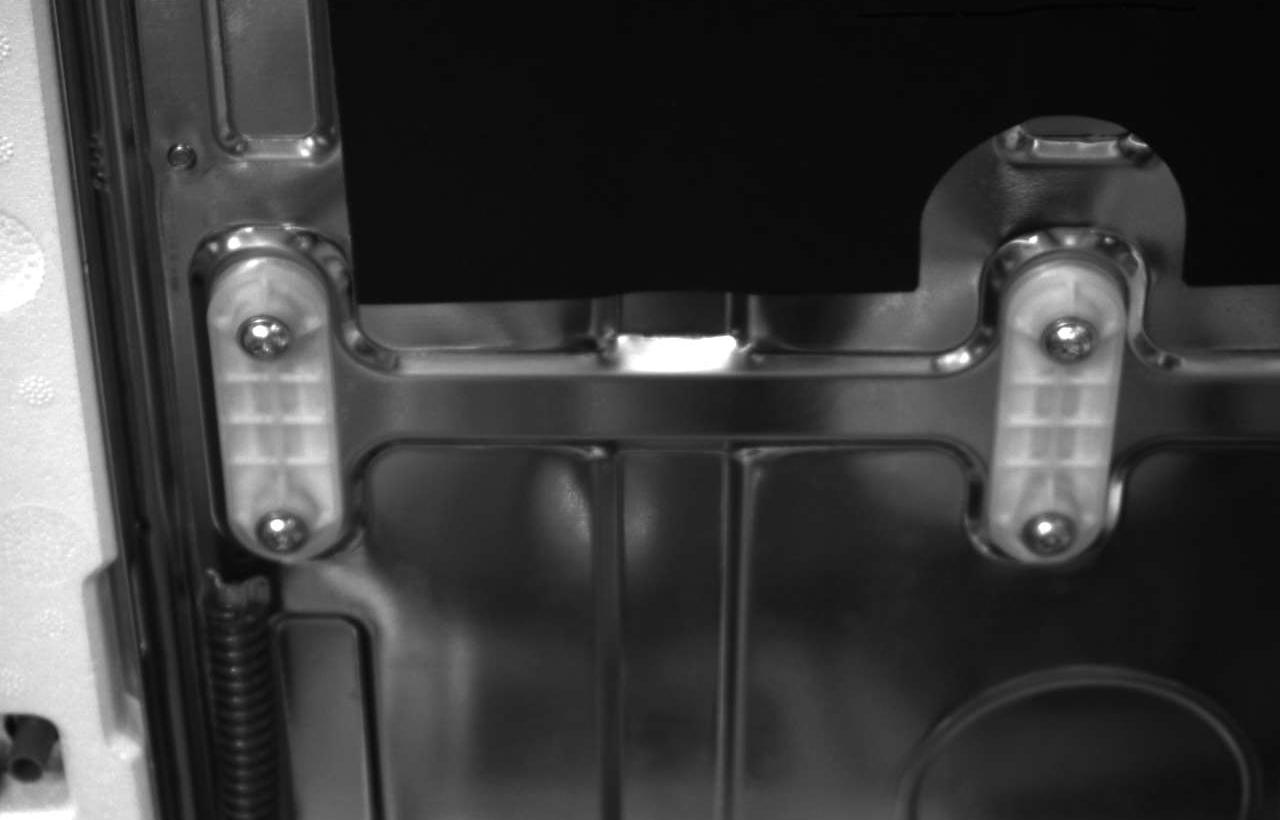vida-ok: (217, 299, 304, 377), (1027, 301, 1115, 373), (240, 499, 321, 563), (1008, 501, 1084, 560)
